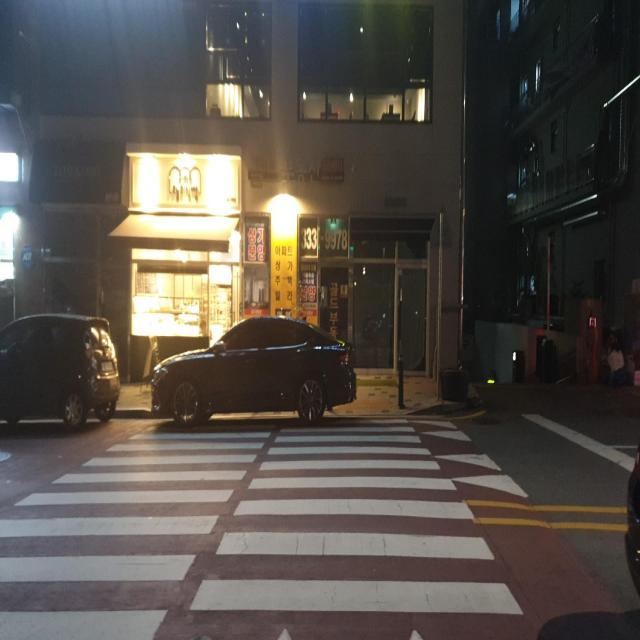횡단보도: (0, 414, 526, 640)
